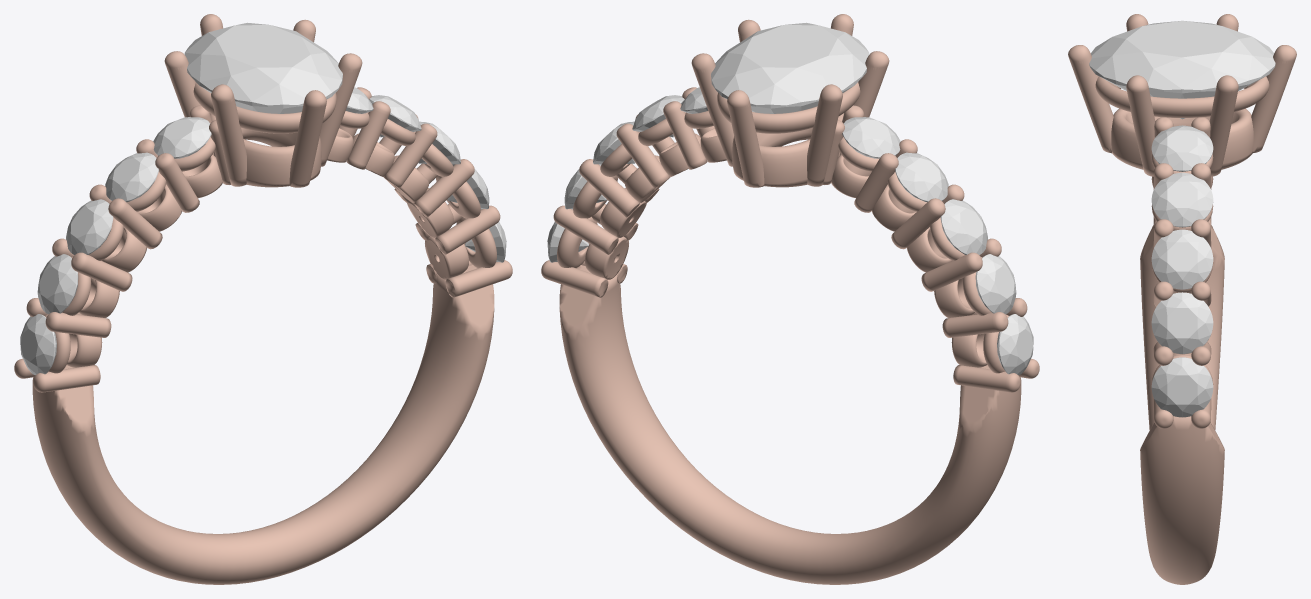
File: diamond-oval-rosegold-6prong-taperedband-11stone.glb
The picture shows the model from 3 angles, left to right: view 1: azimuth 30°, elevation 25°; view 2: azimuth 150°, elevation 25°; view 3: azimuth 270°, elevation 25°; orthographic projection.
Parts seen in each view (by area): view 1: metal, stone.001, side.012, side.013, side.011, side.014, side.010, side.018; view 2: metal, stone.001, side.012, side.013, side.011, side.014, side.010, side.018; view 3: metal, stone.001, side.016, side.017, side.015, side.018, side.019.
Boxes of the visible parts, left/top/right/bottom form: metal: left=14, top=14, right=512, bottom=584; stone.001: left=184, top=22, right=342, bottom=113; side.012: left=66, top=199, right=113, bottom=254; side.013: left=105, top=152, right=158, bottom=202; side.011: left=37, top=254, right=78, bottom=314; side.014: left=153, top=117, right=211, bottom=158; side.010: left=20, top=314, right=56, bottom=375; side.018: left=369, top=95, right=421, bottom=137; metal: left=541, top=14, right=1039, bottom=584; stone.001: left=711, top=22, right=869, bottom=113; side.012: left=940, top=199, right=987, bottom=254; side.013: left=895, top=152, right=948, bottom=202; side.011: left=975, top=254, right=1016, bottom=314; side.014: left=842, top=117, right=900, bottom=158; side.010: left=997, top=314, right=1033, bottom=375; side.018: left=632, top=95, right=684, bottom=137; metal: left=1068, top=14, right=1296, bottom=584; stone.001: left=1089, top=20, right=1275, bottom=119; side.016: left=1151, top=292, right=1213, bottom=353; side.017: left=1151, top=229, right=1213, bottom=289; side.015: left=1151, top=357, right=1213, bottom=417; side.018: left=1151, top=172, right=1213, bottom=227; side.019: left=1151, top=125, right=1213, bottom=171.
Size of the model in its own units: 21.96 by 23.4 by 9.29.
